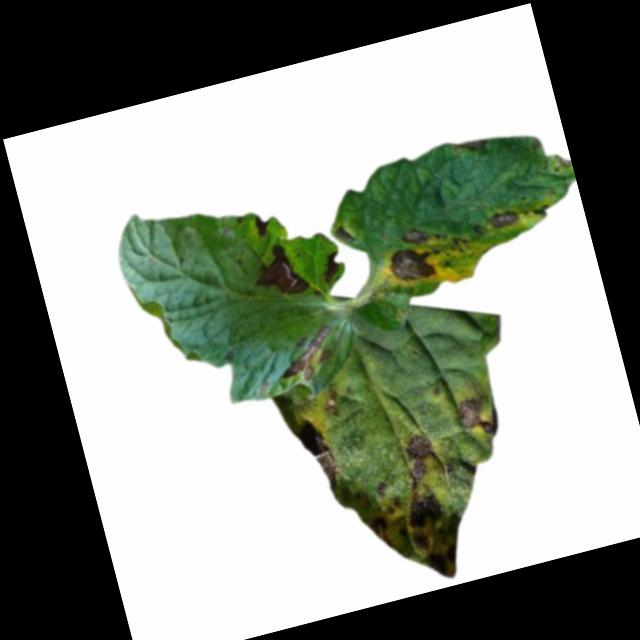Early_blight: (364, 498, 476, 595), (269, 318, 345, 386), (247, 239, 312, 305), (299, 417, 343, 498), (385, 239, 447, 288), (454, 388, 498, 440), (402, 430, 440, 482), (404, 487, 446, 528), (318, 248, 347, 286), (397, 220, 433, 247), (449, 134, 489, 155), (488, 205, 520, 231), (251, 213, 274, 240), (529, 200, 550, 219)
